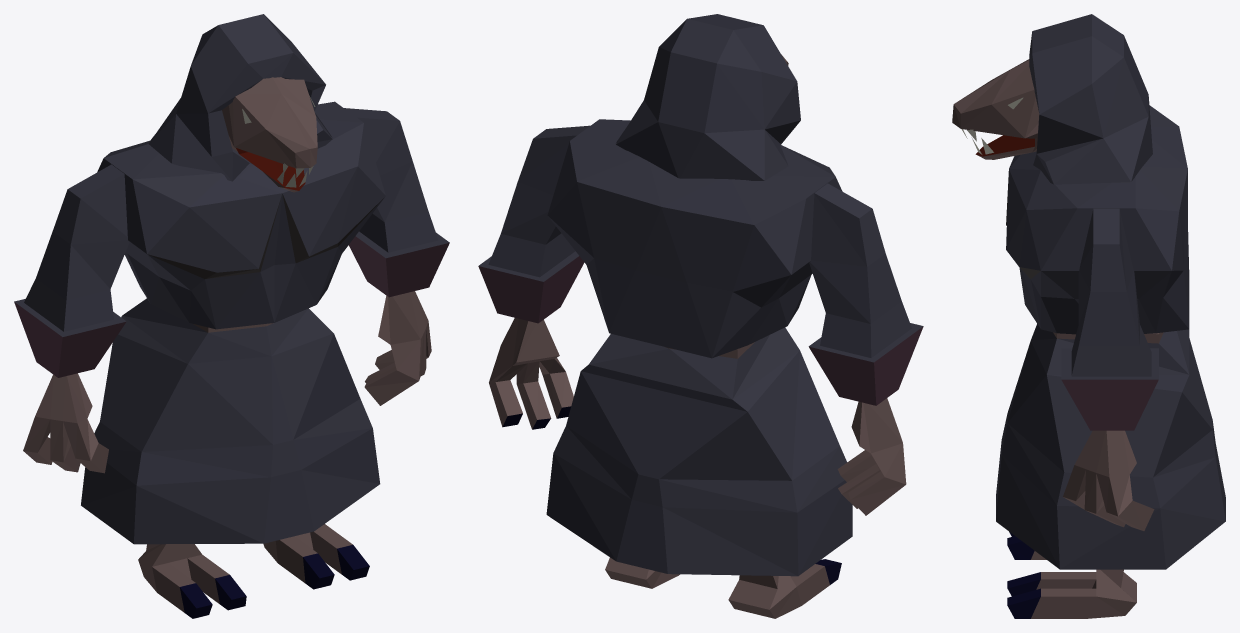
Rendered from yt_hurkot.glb.
3 renders of one model, left to right at view 1: azimuth 30°, elevation 25°; view 2: azimuth 150°, elevation 25°; view 3: azimuth 270°, elevation 25°, orthographic. The views are drawn at different scales.
Size of the model in its own units: 325 by 418 by 188.
1 material, 1 textured.
